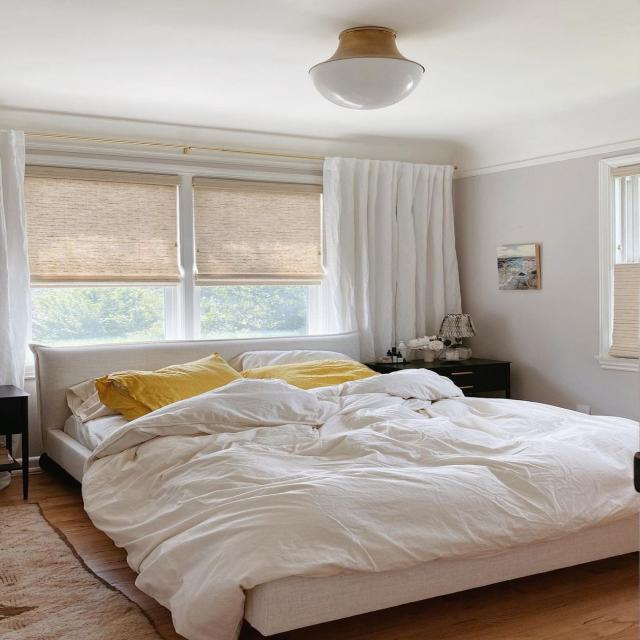bed: (55, 334, 640, 638)
